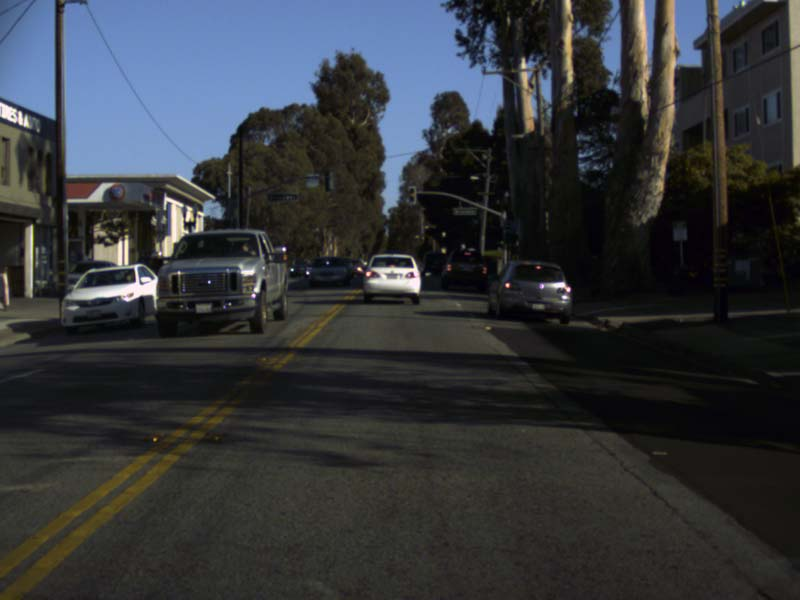Yellow: (406, 185, 416, 205)
